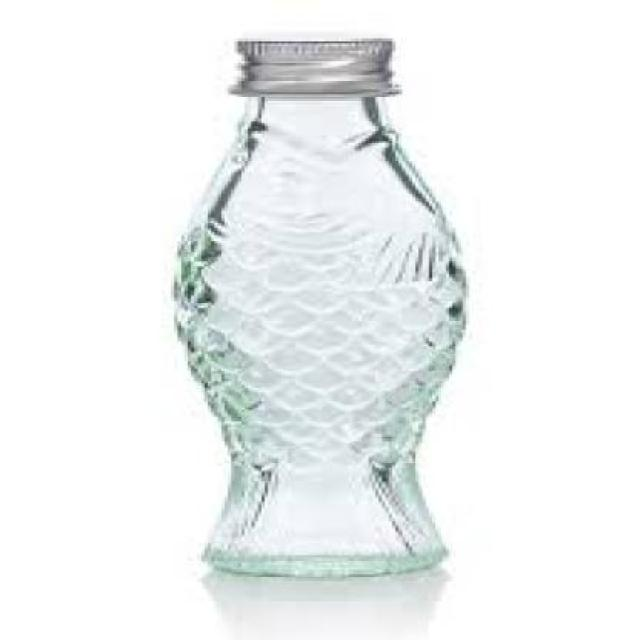kaca: (171, 92, 466, 574)
